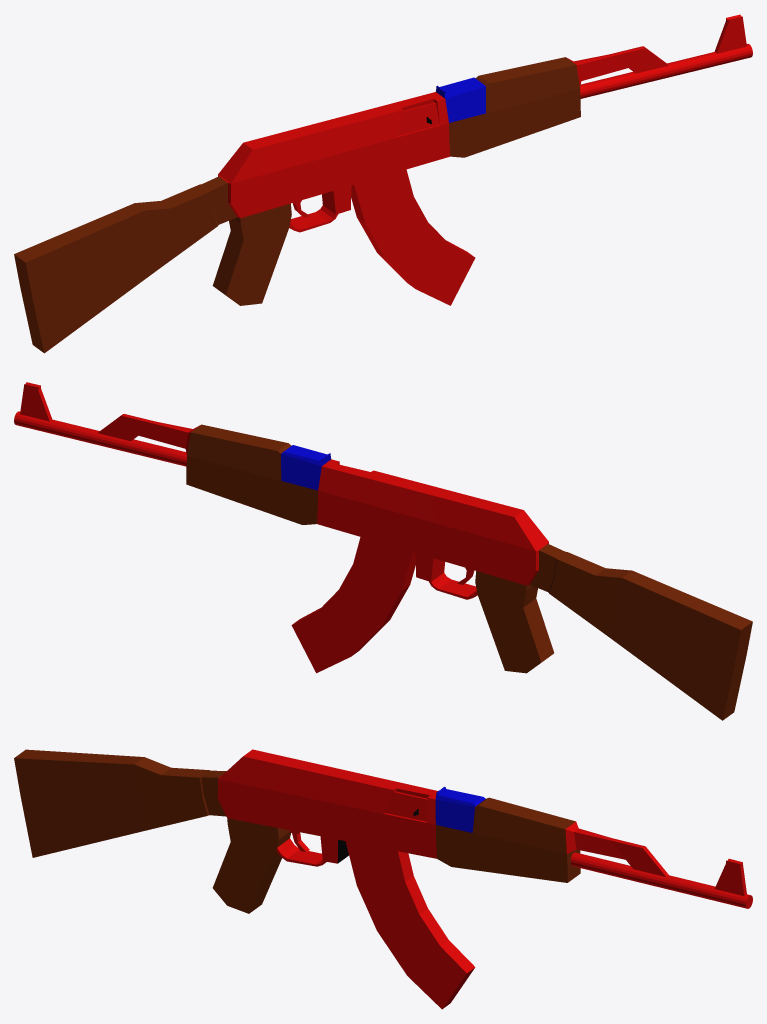
The model's file is Gun.fbx.
3 views of the same model, one above another, from view 1: azimuth 30°, elevation 25°; view 2: azimuth 150°, elevation 25°; view 3: azimuth 330°, elevation 25° (orthographic).
Parts seen in each view (by area): view 1: Gun14; view 2: Gun14; view 3: Gun14.
Boxes of the visible parts, x1=… form: Gun14: x1=14, y1=14, x2=752, y2=353; Gun14: x1=14, y1=382, x2=752, y2=720; Gun14: x1=14, y1=749, x2=752, y2=1009.
Bounding box in the file's own units: 1.32 × 0.3725 × 0.0477.
